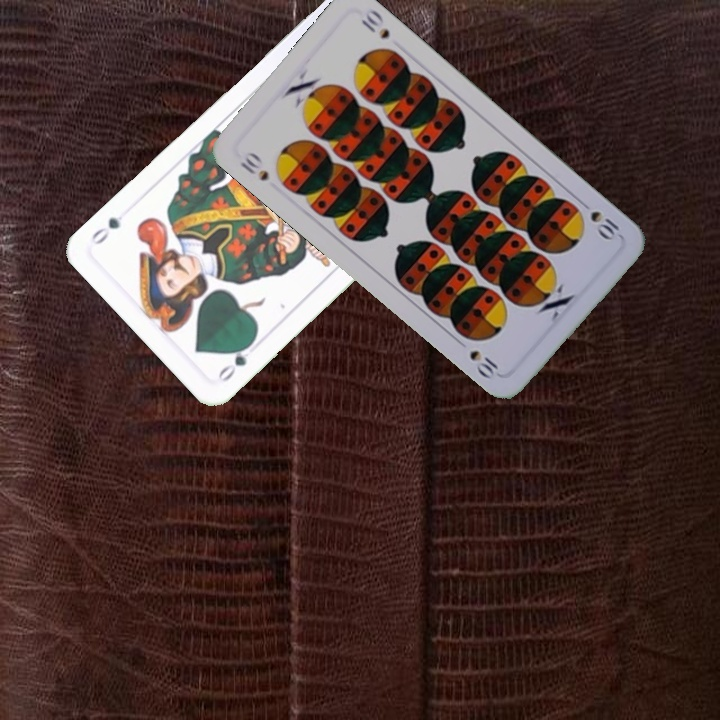GO: (213, 336, 257, 385)
S10: (575, 195, 623, 243), (235, 154, 272, 184)
